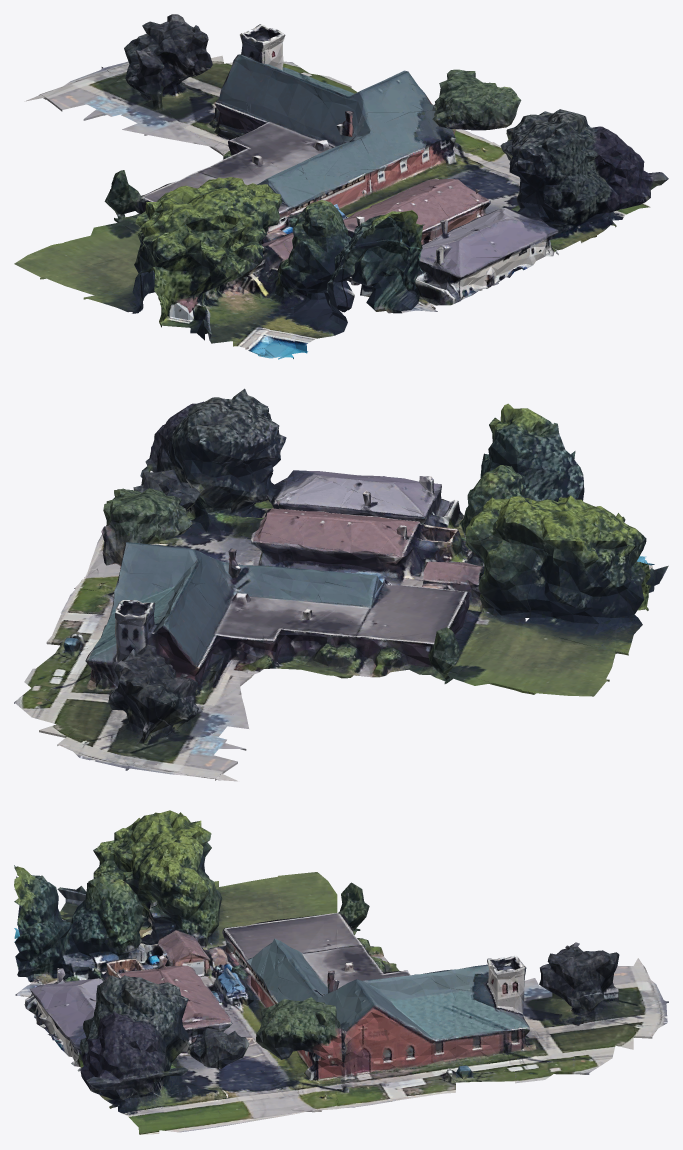
3 renders of one model, top to bottom at view 1: azimuth 30°, elevation 25°; view 2: azimuth 150°, elevation 25°; view 3: azimuth 270°, elevation 25°, orthographic. The views are drawn at different scales.
Parts seen in each view (by area): view 1: BuildingMesh-00008, BuildingMesh-00014, BuildingMesh-00031, BuildingMesh-00033, BuildingMesh-00030, BuildingMesh-00028, BuildingMesh-00029, BuildingMesh-00026, BuildingMesh-00022, BuildingMesh-00024, BuildingMesh-00027, BuildingMesh-00016 (+11 smaller); view 2: BuildingMesh-00008, BuildingMesh-00026, BuildingMesh-00033, BuildingMesh-00022, BuildingMesh-00016, BuildingMesh-00030, BuildingMesh-00042, BuildingMesh-00040, BuildingMesh-00034, BuildingMesh-00027, BuildingMesh-00031, BuildingMesh-00014 (+11 smaller); view 3: BuildingMesh-00016, BuildingMesh-00030, BuildingMesh-00022, BuildingMesh-00029, BuildingMesh-00033, BuildingMesh-00034, BuildingMesh-00042, BuildingMesh-00031, BuildingMesh-00009, BuildingMesh-00014, BuildingMesh-00027, BuildingMesh-00023 (+13 smaller).
Part boxes in pixels (x1,y1,x2,y2): BuildingMesh-00008: (84, 185, 249, 329); BuildingMesh-00014: (249, 206, 437, 353); BuildingMesh-00031: (274, 101, 456, 219); BuildingMesh-00033: (212, 68, 423, 164); BuildingMesh-00030: (149, 24, 340, 148); BuildingMesh-00028: (415, 196, 558, 309); BuildingMesh-00029: (424, 69, 521, 198); BuildingMesh-00026: (348, 134, 548, 247); BuildingMesh-00022: (200, 177, 362, 316); BuildingMesh-00024: (544, 140, 668, 254); BuildingMesh-00027: (14, 227, 140, 299); BuildingMesh-00016: (488, 109, 644, 243); BuildingMesh-00008: (521, 495, 650, 653); BuildingMesh-00026: (213, 419, 425, 573); BuildingMesh-00033: (86, 542, 303, 686); BuildingMesh-00022: (379, 465, 551, 625); BuildingMesh-00016: (140, 388, 273, 552); BuildingMesh-00030: (22, 600, 240, 730); BuildingMesh-00042: (304, 571, 520, 673); BuildingMesh-00040: (240, 609, 456, 683); BuildingMesh-00034: (14, 654, 174, 770); BuildingMesh-00027: (458, 626, 628, 696); BuildingMesh-00031: (164, 508, 359, 609); BuildingMesh-00014: (447, 415, 584, 540); BuildingMesh-00016: (99, 975, 218, 1126); BuildingMesh-00030: (455, 948, 574, 1074); BuildingMesh-00022: (99, 833, 218, 989); BuildingMesh-00029: (218, 997, 337, 1117); BuildingMesh-00033: (337, 969, 455, 1072); BuildingMesh-00034: (574, 950, 668, 1074); BuildingMesh-00042: (218, 892, 337, 994); BuildingMesh-00031: (218, 957, 337, 1071); BuildingMesh-00009: (337, 1003, 455, 1108); BuildingMesh-00014: (14, 865, 100, 997); BuildingMesh-00027: (218, 872, 337, 928); BuildingMesh-00023: (99, 833, 218, 991).
Bounding box in the file's own units: 3540 × 753 × 3839.
Materials: 30 (30 with a texture image).
